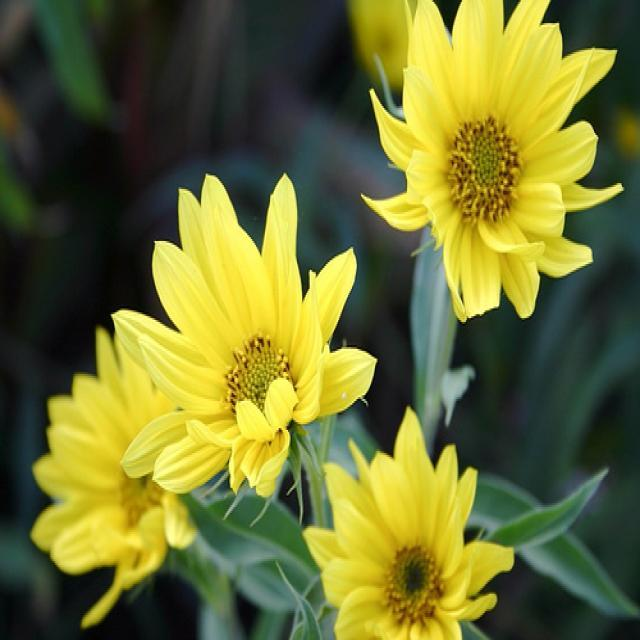sunflower: (362, 0, 624, 322), (114, 176, 376, 494), (30, 324, 192, 627), (305, 407, 512, 640)
